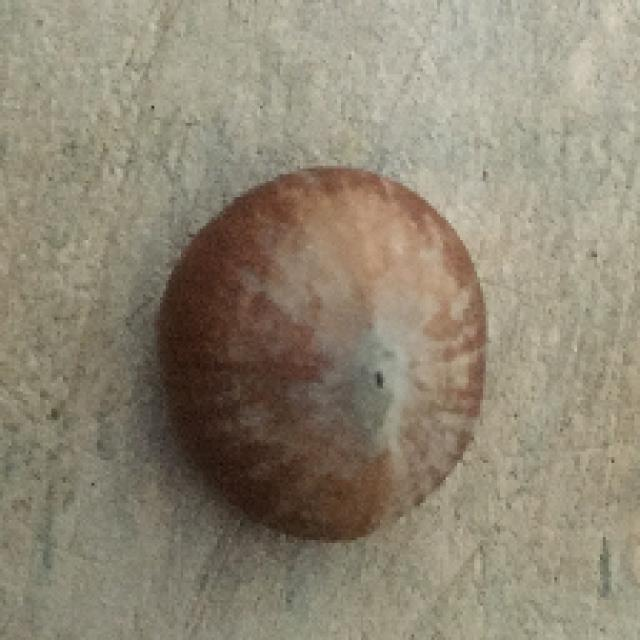qualityHazelnut: (154, 156, 491, 546)
